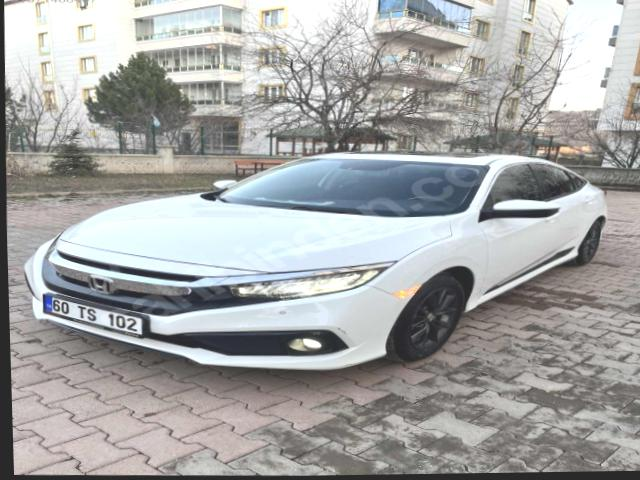plaka: (43, 295, 145, 336)
